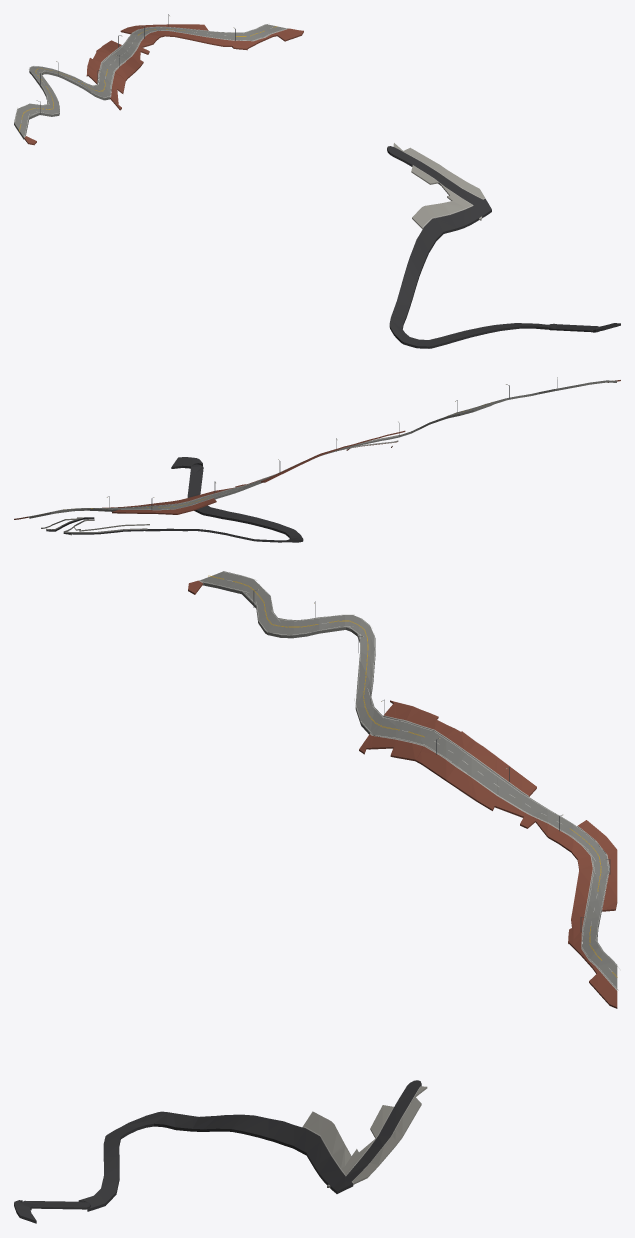
3 views of the same model, one above another, from view 1: azimuth 30°, elevation 25°; view 2: azimuth 150°, elevation 25°; view 3: azimuth 270°, elevation 25° (orthographic). The views are drawn at different scales.
Size of the model in its own units: 294 by 155 by 239.
